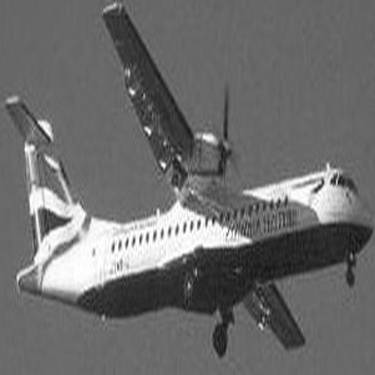airplane: (4, 3, 369, 373)
